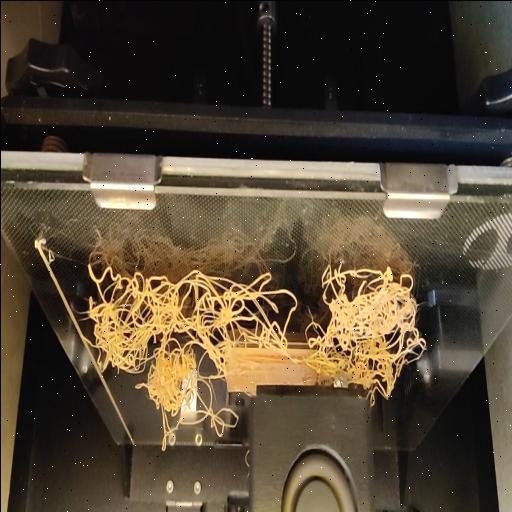spaghetti: (78, 248, 428, 389), (136, 388, 238, 456)
